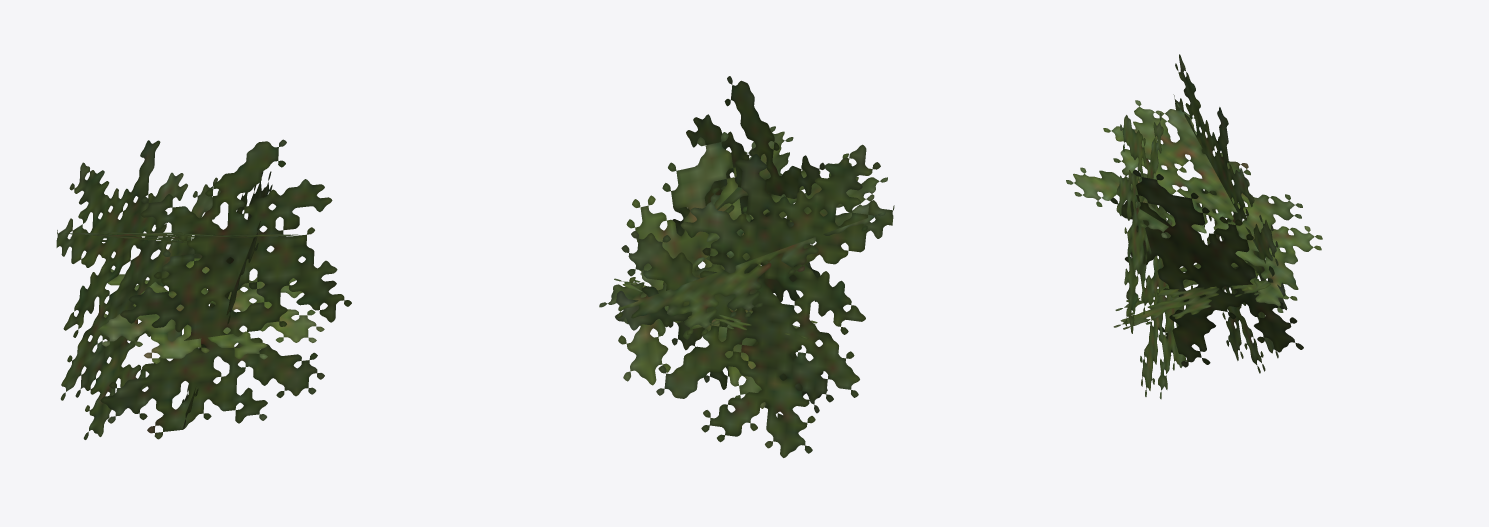
Rendered from pine_leaves_green_vertical_slab_2.obj.
3 views of the same model, side by side, from view 1: azimuth 30°, elevation 25°; view 2: azimuth 150°, elevation 25°; view 3: azimuth 270°, elevation 25° (orthographic). The views are drawn at different scales.
Visible parts, largest first — view 1: plane; view 2: plane; view 3: plane.
Part boxes in pixels (x1,y1,x2,y2): plane: (56,139,351,439); plane: (599,76,894,457); plane: (1066,54,1322,399).
Bounding box in the file's own units: 1.98 × 1.82 × 2.13.
